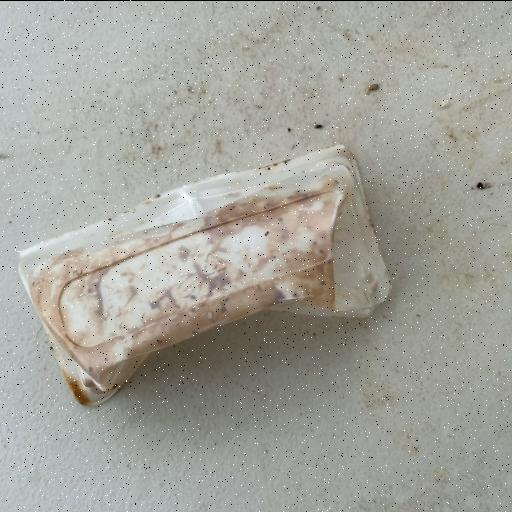Plastic: (16, 142, 392, 408)
